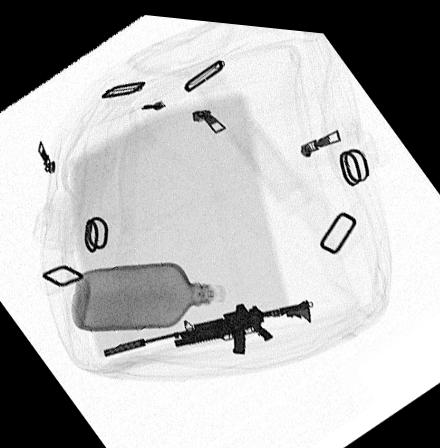Gun: (101, 293, 314, 355)
